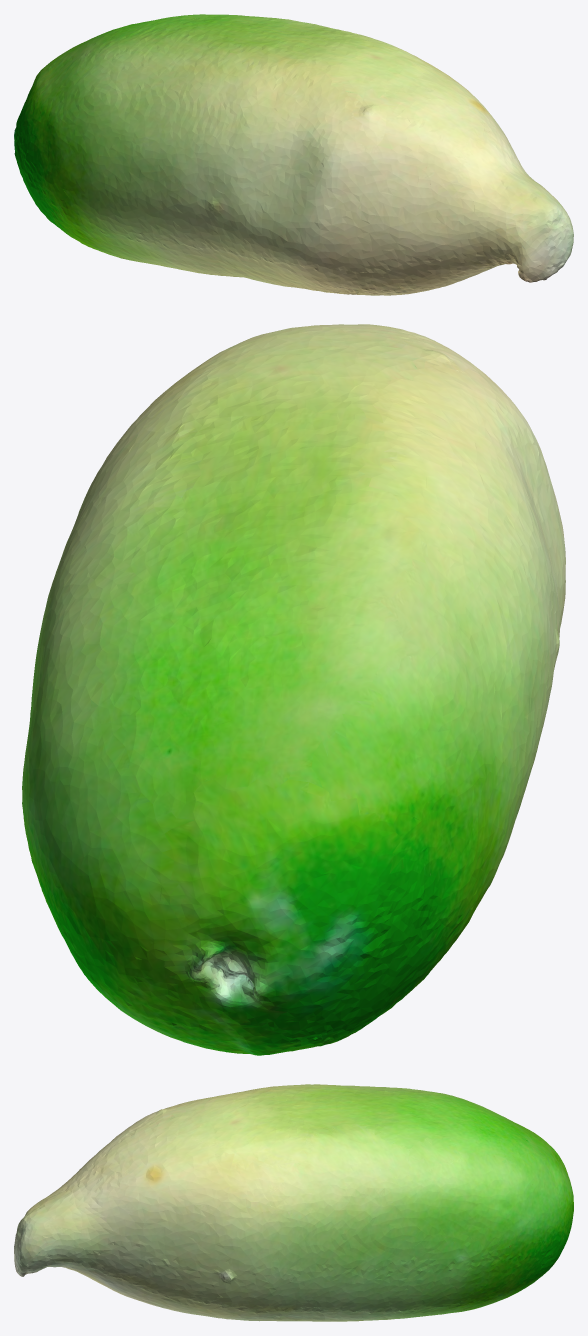
Rendered from radish.obj.
3 renders of one model, top to bottom at view 1: azimuth 30°, elevation 25°; view 2: azimuth 150°, elevation 25°; view 3: azimuth 270°, elevation 25°, orthographic. The views are drawn at different scales.
Visible parts, largest first — view 1: radish; view 2: radish; view 3: radish.
Part boxes in pixels (bbox=[...]): radish: bbox=[14, 14, 573, 295]; radish: bbox=[22, 324, 565, 1055]; radish: bbox=[14, 1084, 573, 1321].
Size of the model in its own units: 0.0634 by 0.0498 by 0.1119.
